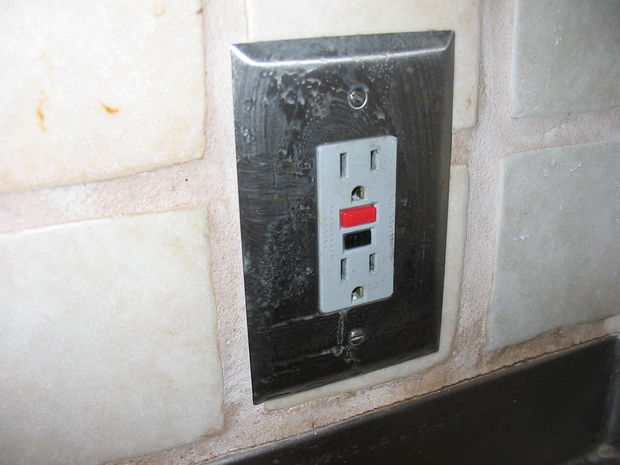outlet: (335, 148, 383, 205), (335, 248, 378, 302)
